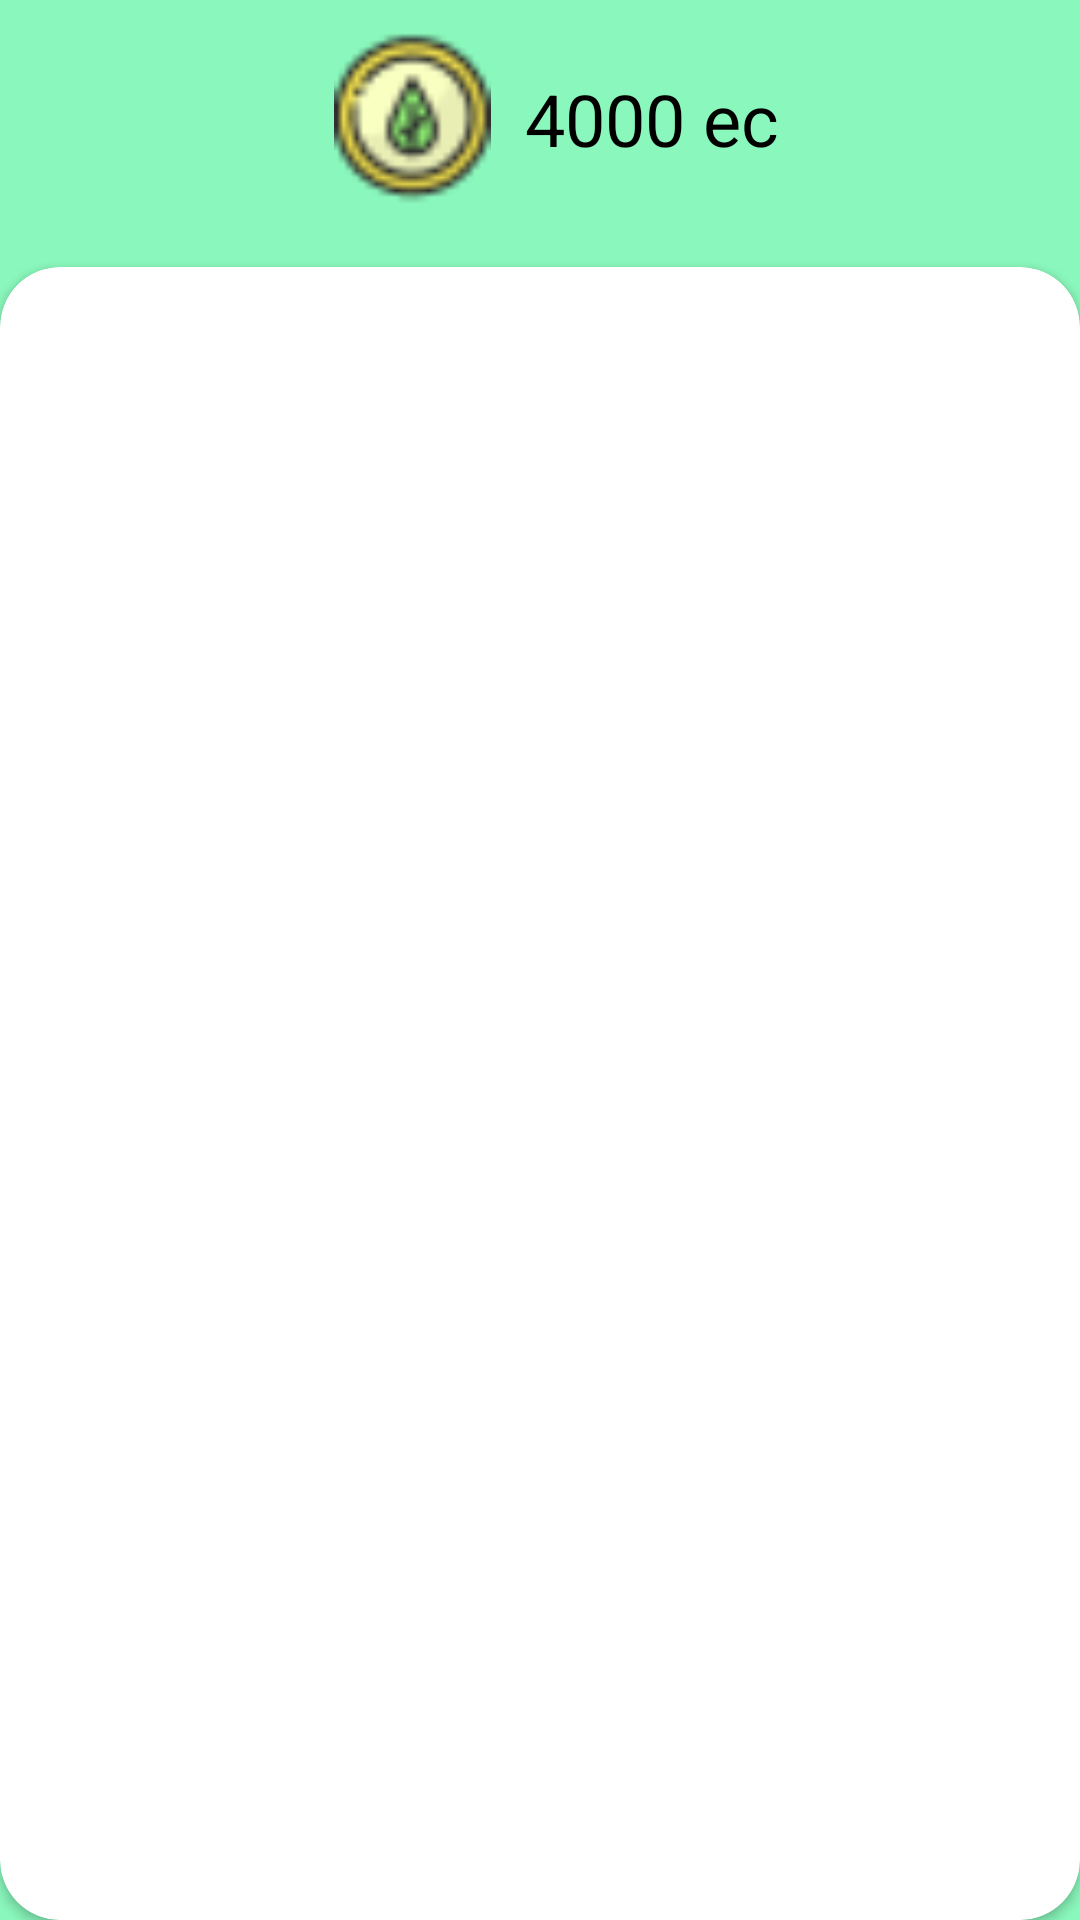

Where icons sit on this 1080 x 1920 app screen, as rect(x1, y1, x2, y2):
ecocoin: rect(334, 34, 491, 201)
